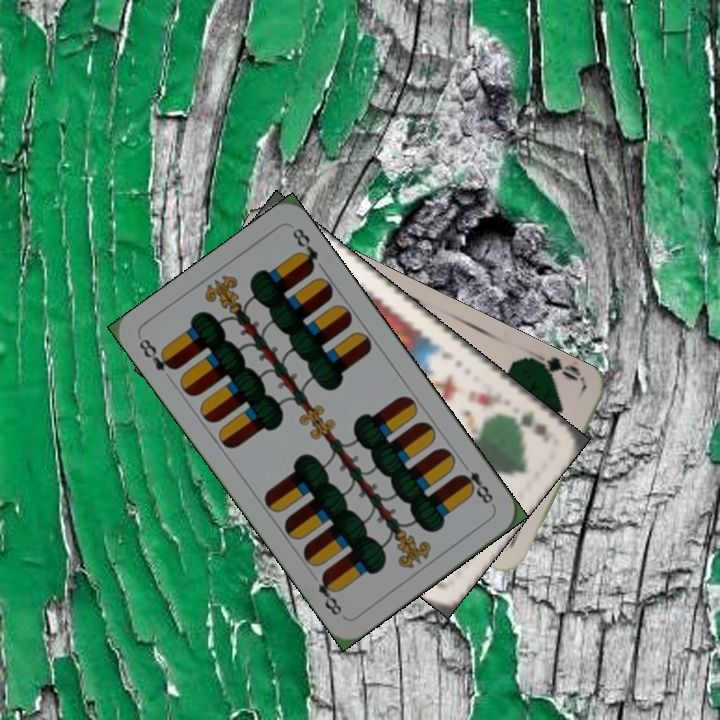E8: (454, 458, 497, 510), (134, 334, 180, 374)
GK: (502, 409, 559, 447)
GO: (528, 348, 585, 386)
